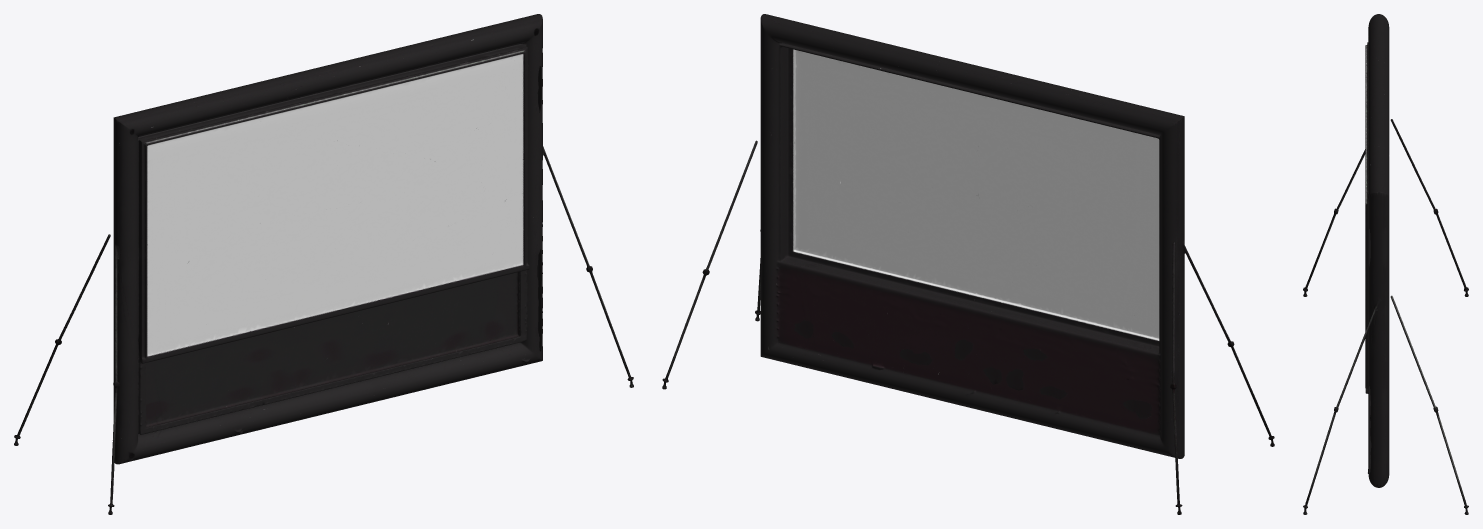
The model's file is screen.glb.
3 views of the same model, side by side, from view 1: azimuth 30°, elevation 25°; view 2: azimuth 150°, elevation 25°; view 3: azimuth 270°, elevation 25° (orthographic). The views are drawn at different scales.
Bounding box in the file's own units: 1.9 × 1.22 × 0.6059.
Materials: 1 (1 with a texture image).
